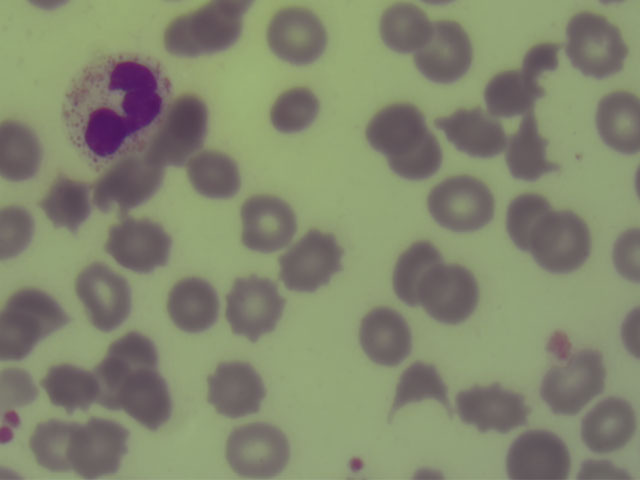Platelets: (544, 326, 576, 361), (343, 451, 366, 476)
RBC: (91, 162, 159, 214), (393, 235, 437, 307), (440, 107, 502, 158), (78, 266, 126, 330), (164, 94, 209, 161), (7, 287, 68, 334), (1, 115, 42, 183), (597, 88, 640, 150), (427, 267, 479, 318), (511, 429, 563, 480), (580, 400, 632, 451), (549, 358, 601, 409), (392, 363, 444, 414), (465, 379, 517, 430), (534, 214, 586, 265), (505, 192, 557, 243), (230, 423, 282, 474), (208, 366, 260, 417), (73, 420, 125, 471), (27, 418, 79, 469), (121, 371, 173, 422), (97, 339, 149, 390), (42, 361, 94, 412), (285, 235, 337, 286), (359, 312, 411, 363), (435, 175, 487, 226), (385, 128, 437, 179), (504, 126, 556, 177), (484, 63, 536, 114), (570, 18, 622, 69), (418, 23, 470, 74), (378, 1, 430, 52), (168, 279, 220, 330), (225, 280, 277, 331), (114, 218, 166, 269), (240, 197, 292, 248), (187, 147, 239, 198), (40, 178, 92, 229), (272, 84, 324, 135), (269, 13, 321, 64), (176, 3, 228, 54), (365, 105, 427, 147), (1, 202, 38, 258), (609, 225, 640, 289), (1, 363, 40, 409), (1, 312, 30, 356)
WBC: (65, 51, 168, 162)
